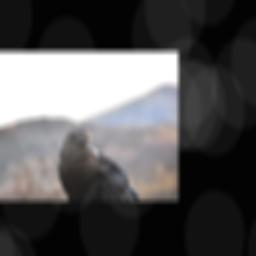Crow: (56, 126, 146, 200)
